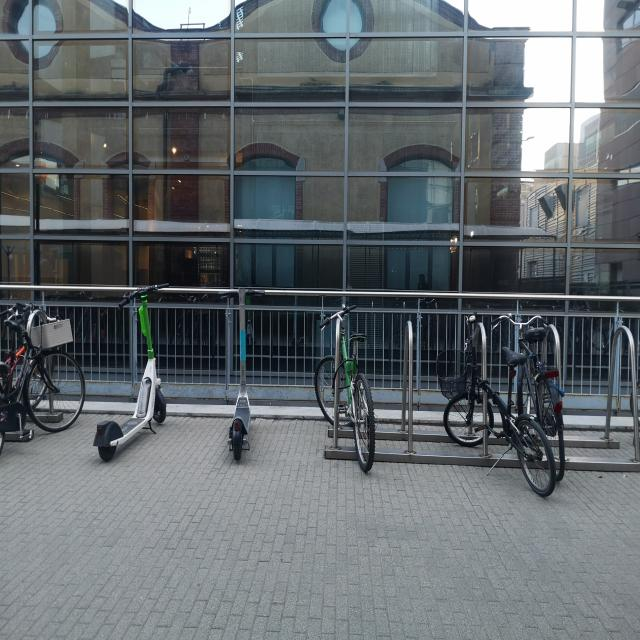Bicycle: (430, 314, 557, 510), (493, 295, 574, 482), (304, 303, 386, 482), (106, 271, 174, 474), (0, 287, 81, 449), (210, 273, 271, 477)
